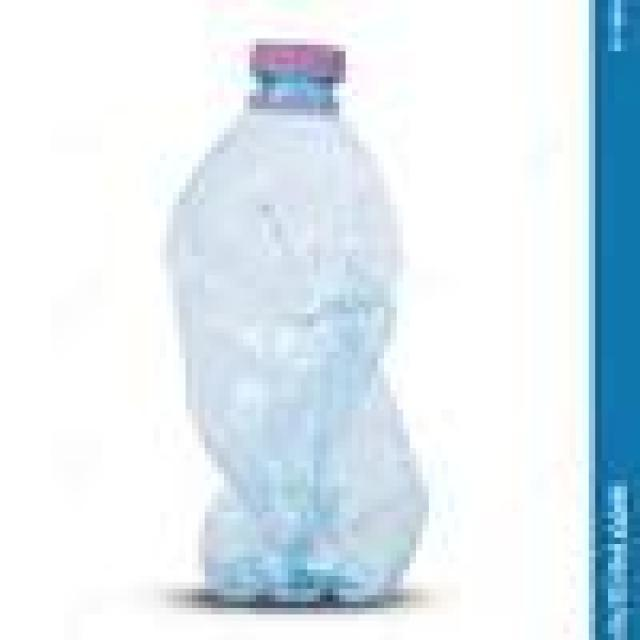defected: (153, 25, 440, 610)
